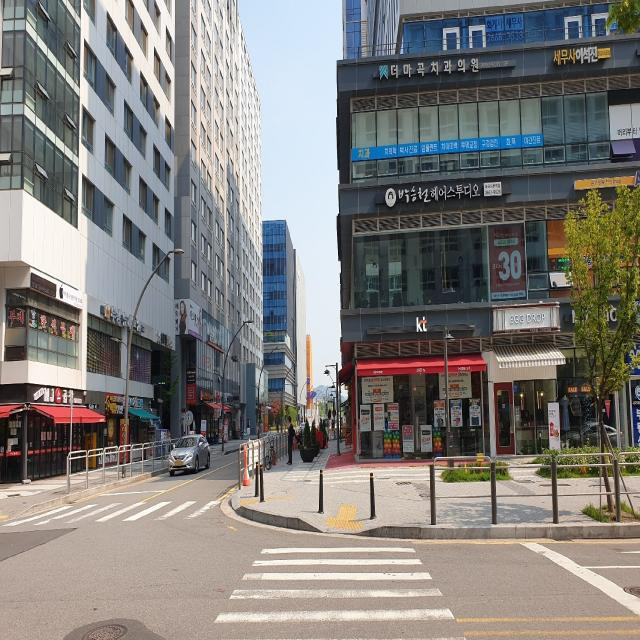횡단보도: (212, 544, 468, 640), (12, 480, 230, 533)
